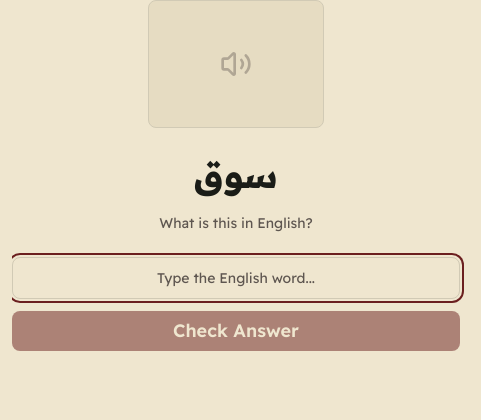
Scenario: typing the answer › accepts the right word
This screenshot has width=481, height=420.
Type "market" into the field with placeholder "Type the English word..." at (236, 278), box [12,257,460,299]
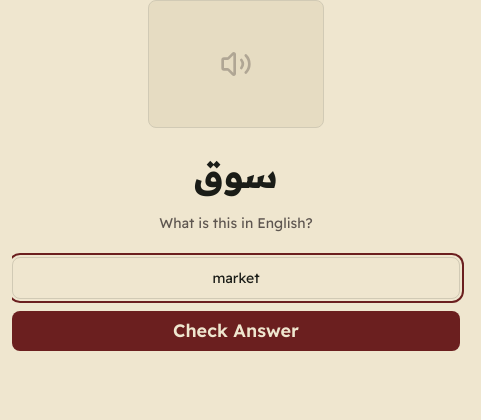
Click the button "Check Answer" at (236, 331), box [12,311,460,351]
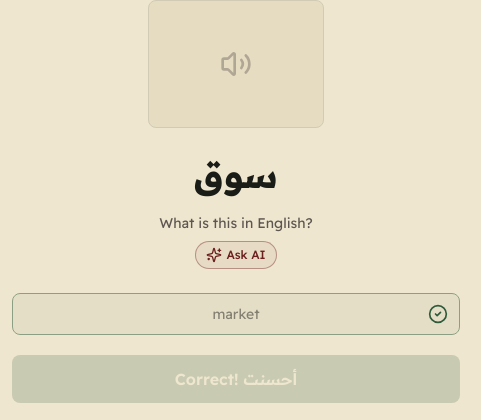
Now the text "Correct! أحسنت" is shown, box [12,355,460,403]
